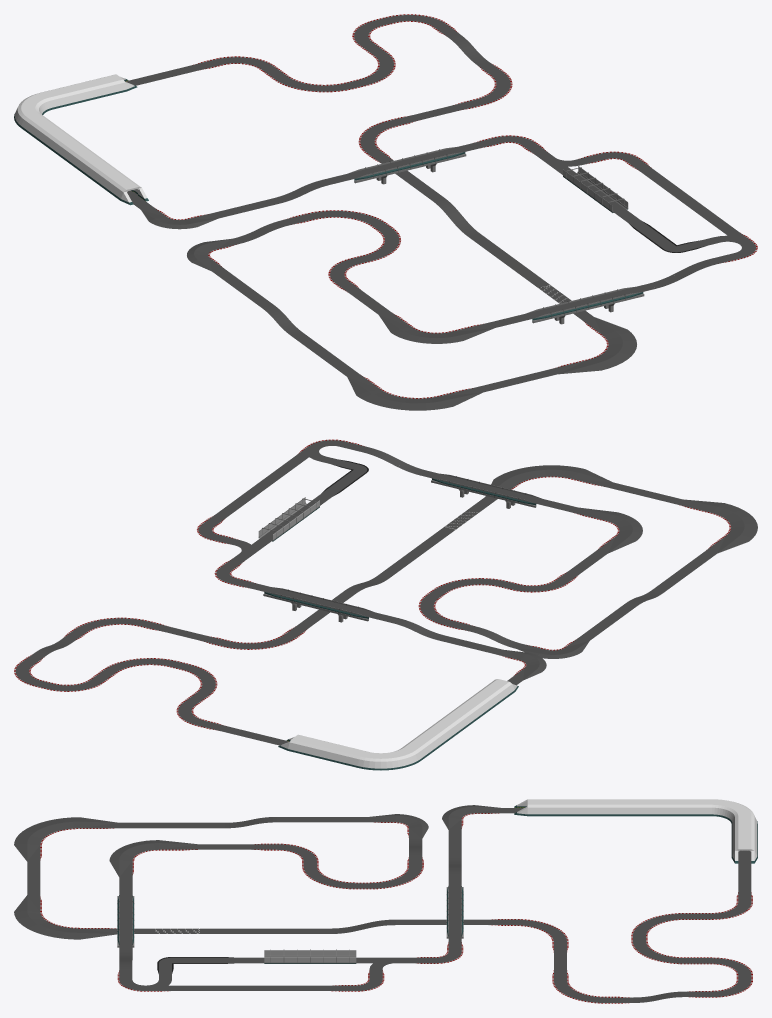
The model's file is pine valley.fbx.
The picture shows the model from 3 angles, top to bottom: view 1: azimuth 30°, elevation 25°; view 2: azimuth 150°, elevation 25°; view 3: azimuth 270°, elevation 25°; orthographic projection. The views are drawn at different scales.
Parts seen in each view (by area): view 1: _(Loose Entity); view 2: _(Loose Entity); view 3: _(Loose Entity).
Part boxes in pixels (<box>): _(Loose Entity): <box>14,14,757,410</box>; _(Loose Entity): <box>14,439,757,770</box>; _(Loose Entity): <box>14,799,757,1003</box>.
Size of the model in its own units: 70250 by 4825 by 112997.
